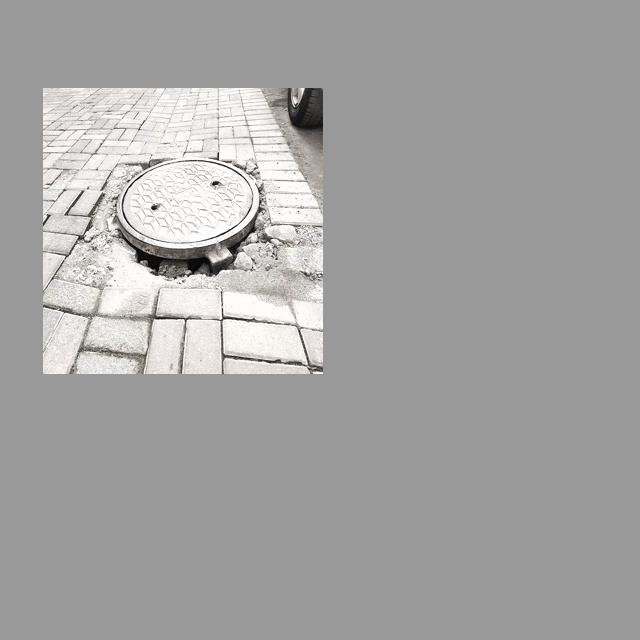circle: (61, 157, 297, 288)
